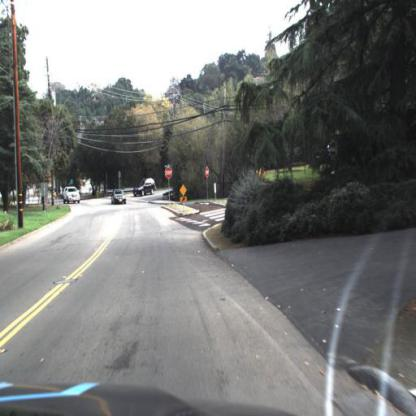car: (131, 177, 158, 200), (59, 186, 84, 209), (110, 187, 128, 210)
